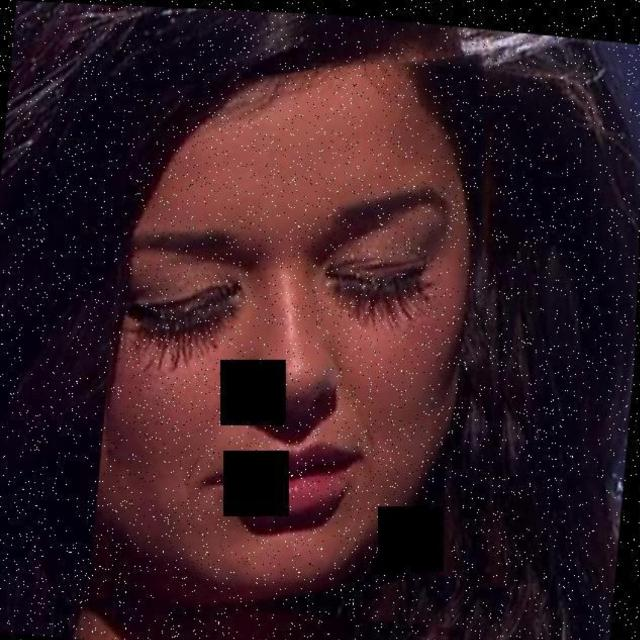Sad: (83, 173, 506, 594)
